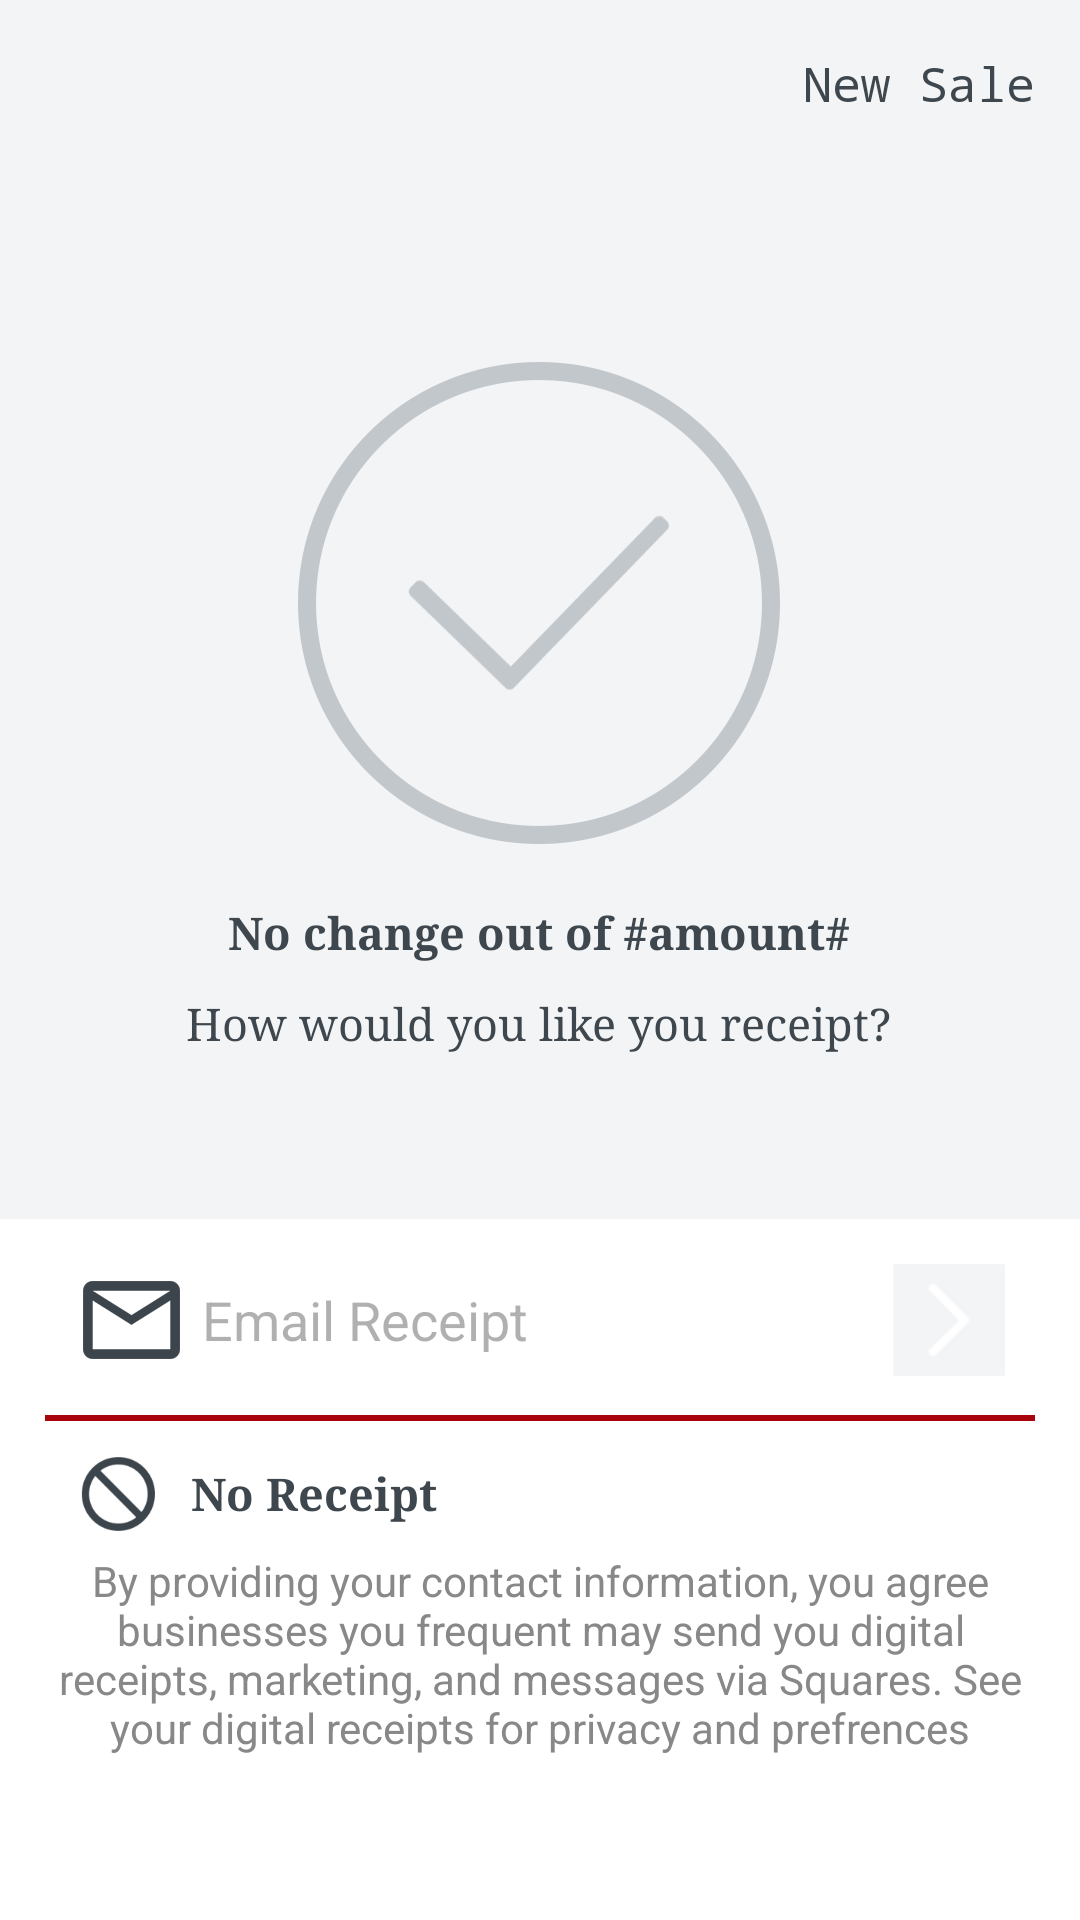

Where to tap for icons on this 1080 × 1920 app screen, as point (x, y):
block: point (118, 1494)
